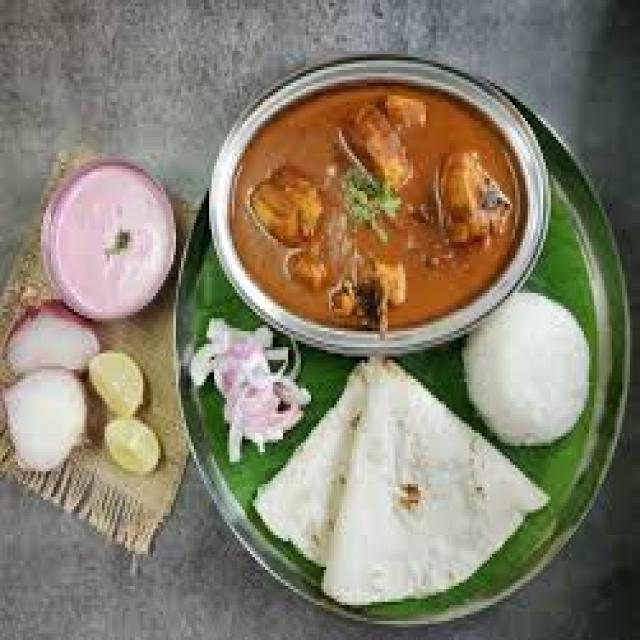RICE BHAKRI: (250, 353, 546, 602)
